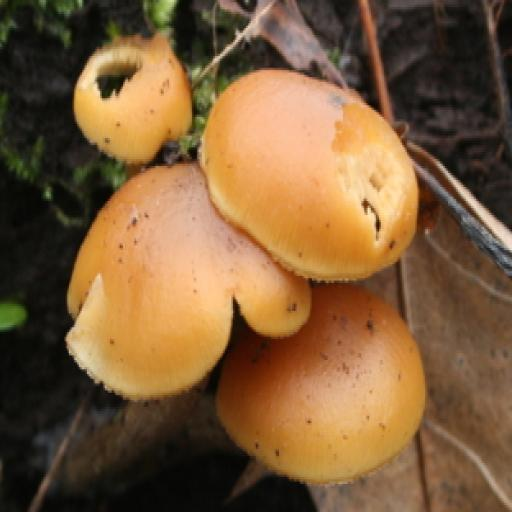mushroom: (60, 23, 432, 482)
